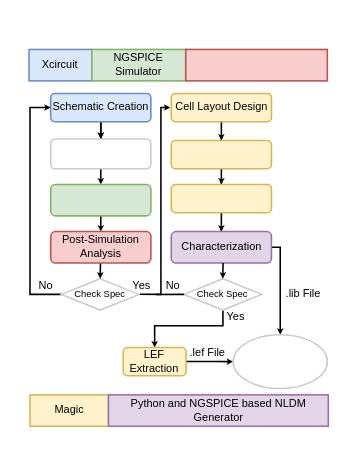
This 356x476 diagram has some shape labels left out. Each missing label, with the centre of its shape:
Custom Cell Inclusion Flow: the point at 279,361
DRC/LVS Check: the point at 220,154
NGSPICE Control Commands: the point at 255,64
PEX Extraction: the point at 220,198
Simulation: the point at 100,199
Test Circuit Harness: the point at 100,153
